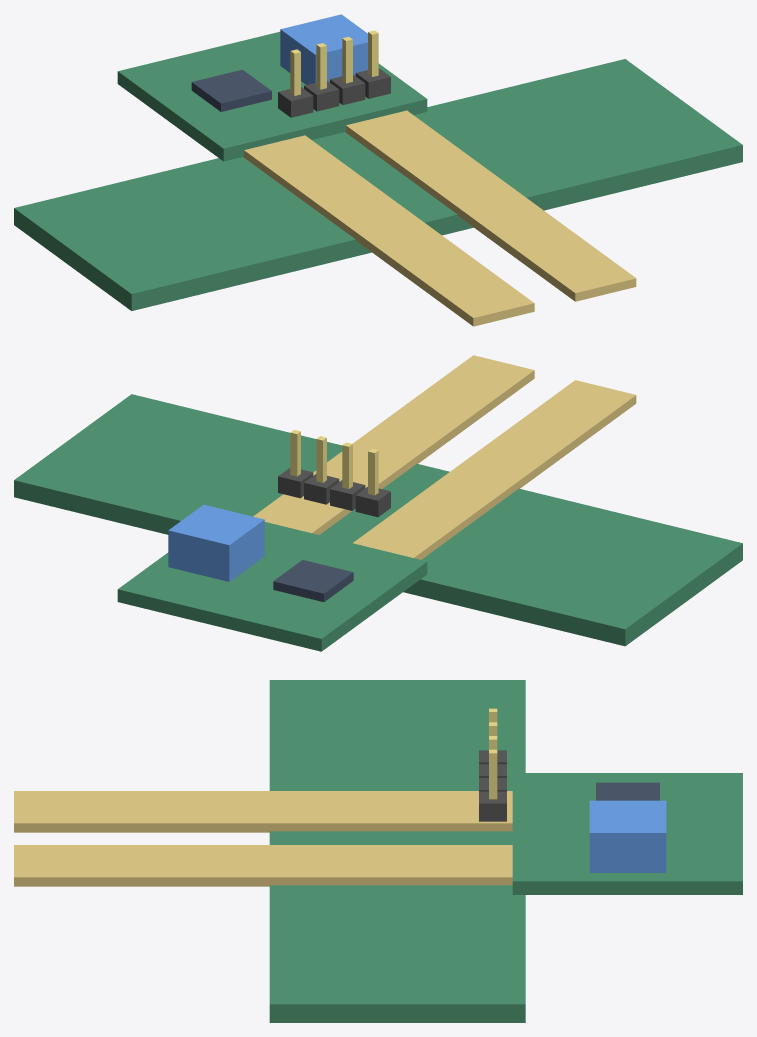
File: soil-moisture-sensor.glb
The picture shows the model from 3 angles, top to bottom: view 1: azimuth 30°, elevation 25°; view 2: azimuth 150°, elevation 25°; view 3: azimuth 270°, elevation 25°; orthographic projection. The views are drawn at different scales.
Parts seen in each view (by area): view 1: soil-moisture-sensor_mesh; view 2: soil-moisture-sensor_mesh; view 3: soil-moisture-sensor_mesh.
Part boxes in pixels (<box>): soil-moisture-sensor_mesh: <box>14,14,742,326</box>; soil-moisture-sensor_mesh: <box>14,355,742,651</box>; soil-moisture-sensor_mesh: <box>14,680,742,1022</box>.
Size of the model in its own units: 60 by 11.2 by 57.
